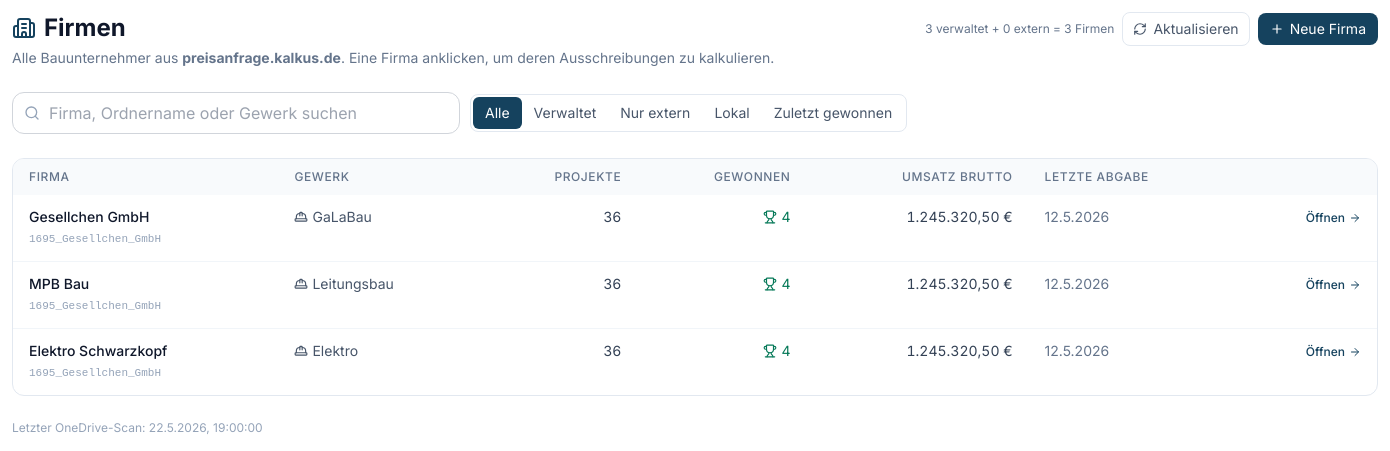
Firmen.tsx — filters › search box filters by display name (case-insensitive)
The width and height of the screenshot is (1390, 451).
Expected: the link "Gesellchen GmbH" is shown, [29,208,149,225]
Type "mpb" into the search field named "Firmen durchsuchen" at {"x": 236, "y": 113}, box [12,92,460,134]
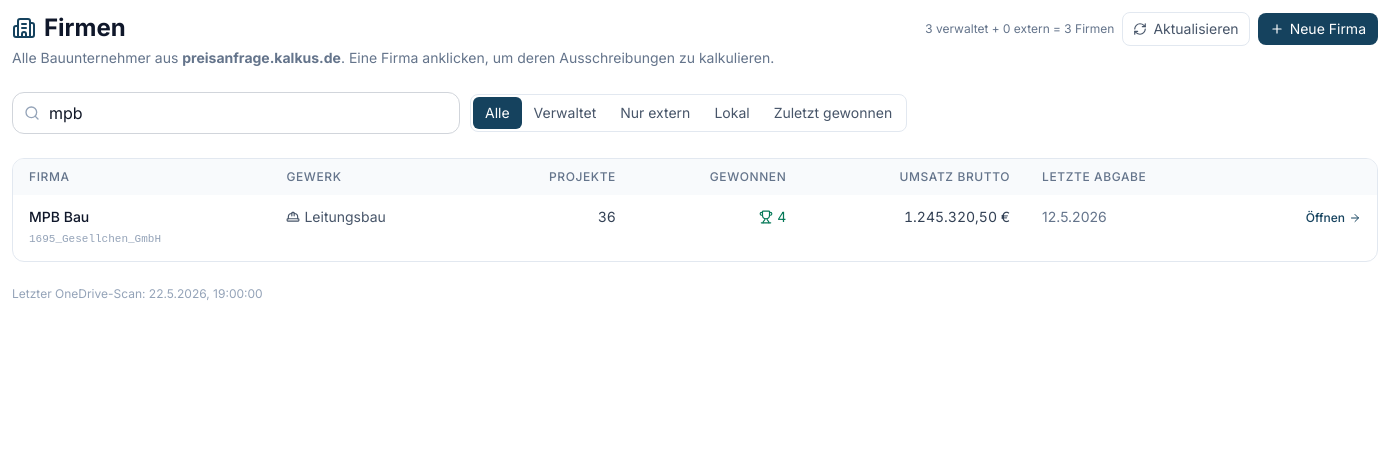
Expected: the link "MPB Bau" is shown, [29,208,89,225]
Result: the link "Gesellchen GmbH" is gone
Result: the link "Elektro Schwarzkopf" is gone
